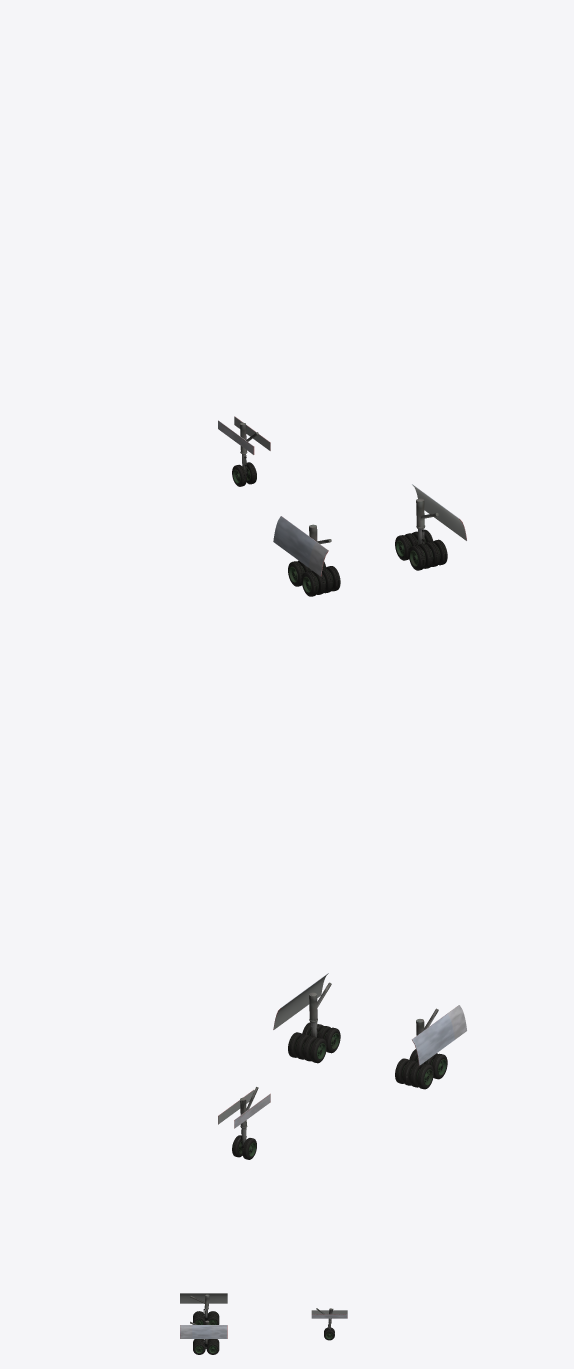
Rendered from e_t4_gear.glb.
The picture shows the model from 3 angles, top to bottom: view 1: azimuth 30°, elevation 25°; view 2: azimuth 150°, elevation 25°; view 3: azimuth 270°, elevation 25°; orthographic projection. The views are drawn at different scales.
Parts seen in each view (by area): view 1: body|MG_paint; view 2: body|MG_paint; view 3: body|MG_paint.
Part boxes in pixels (x1=…): body|MG_paint: x1=218, y1=416, x2=466, y2=596; body|MG_paint: x1=218, y1=973, x2=466, y2=1159; body|MG_paint: x1=180, y1=1293, x2=347, y2=1354.
Bounding box in the file's own units: 6.89 × 13.57 × 44.52.
Materials: 1 (1 with a texture image).
